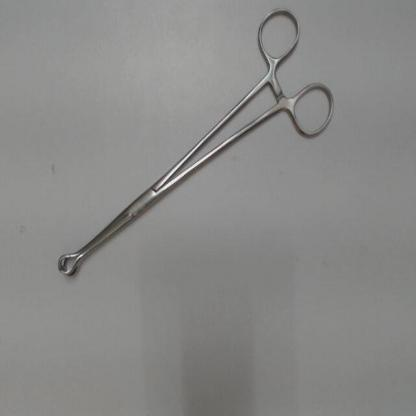8 Babcock Tissue Forceps: (53, 3, 339, 286)
